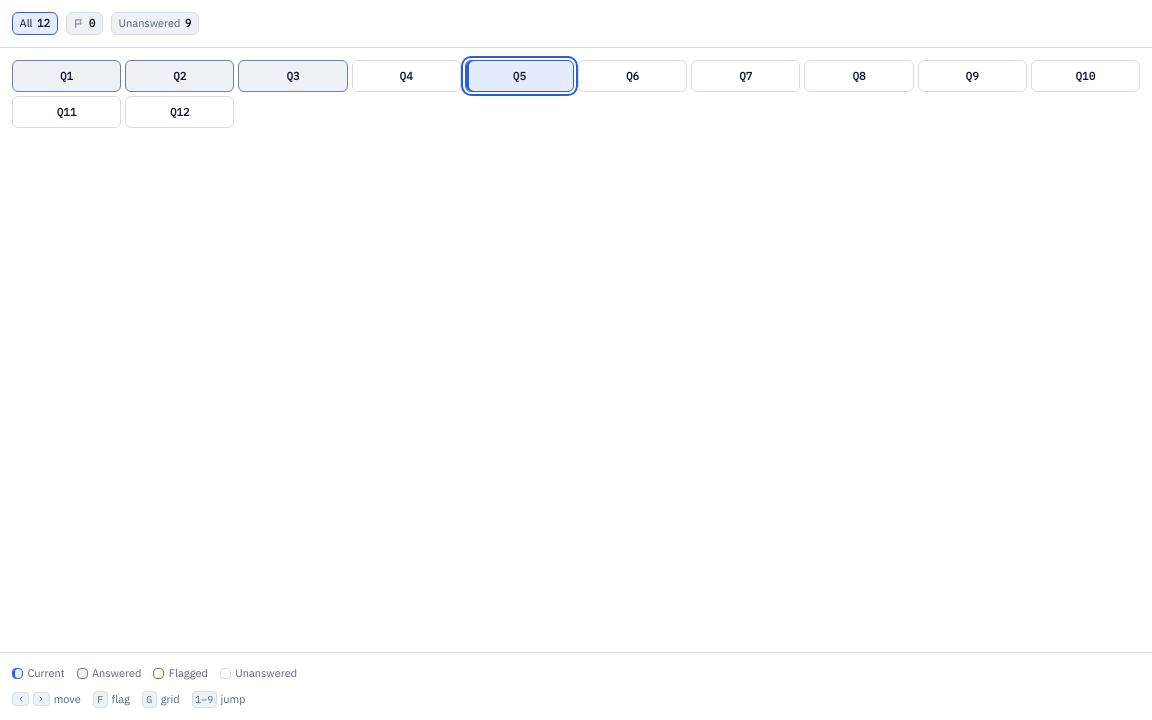
Test: Navigator filters › a filter that matches nothing says why instead of going blank
Step 1. Click the button named "Flagged" → (84, 23), box [66,12,103,35]
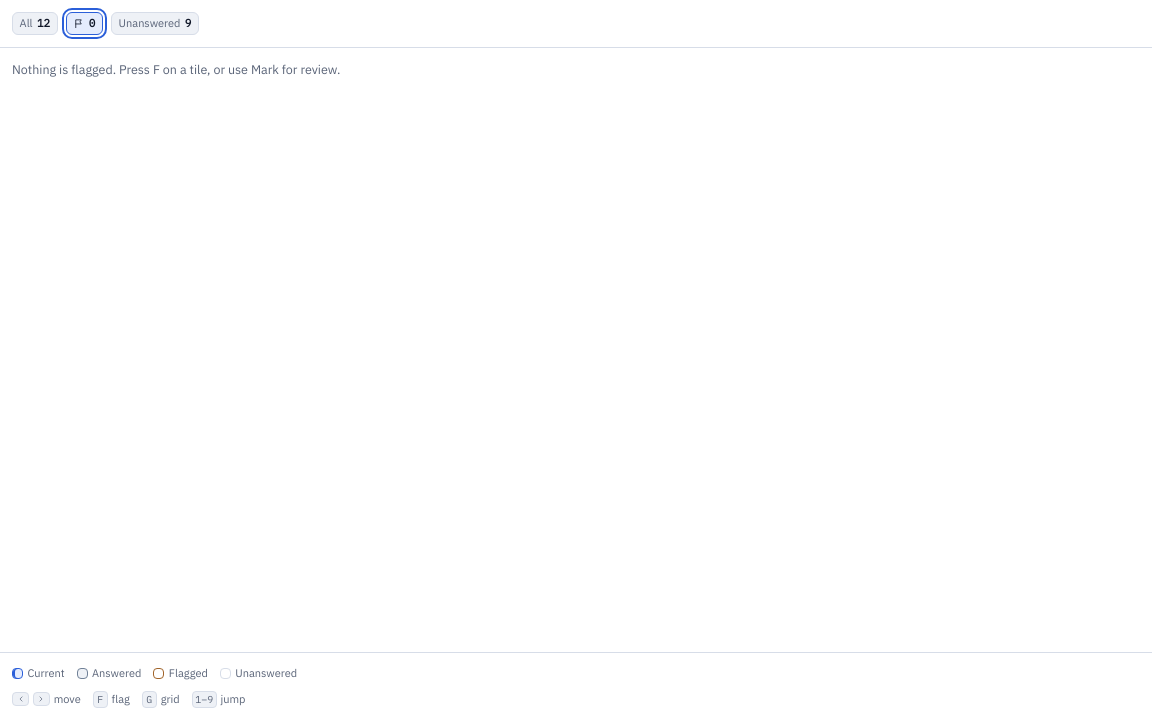
expect the text "Nothing is flagged" is shown: met, box [12,61,340,77]
